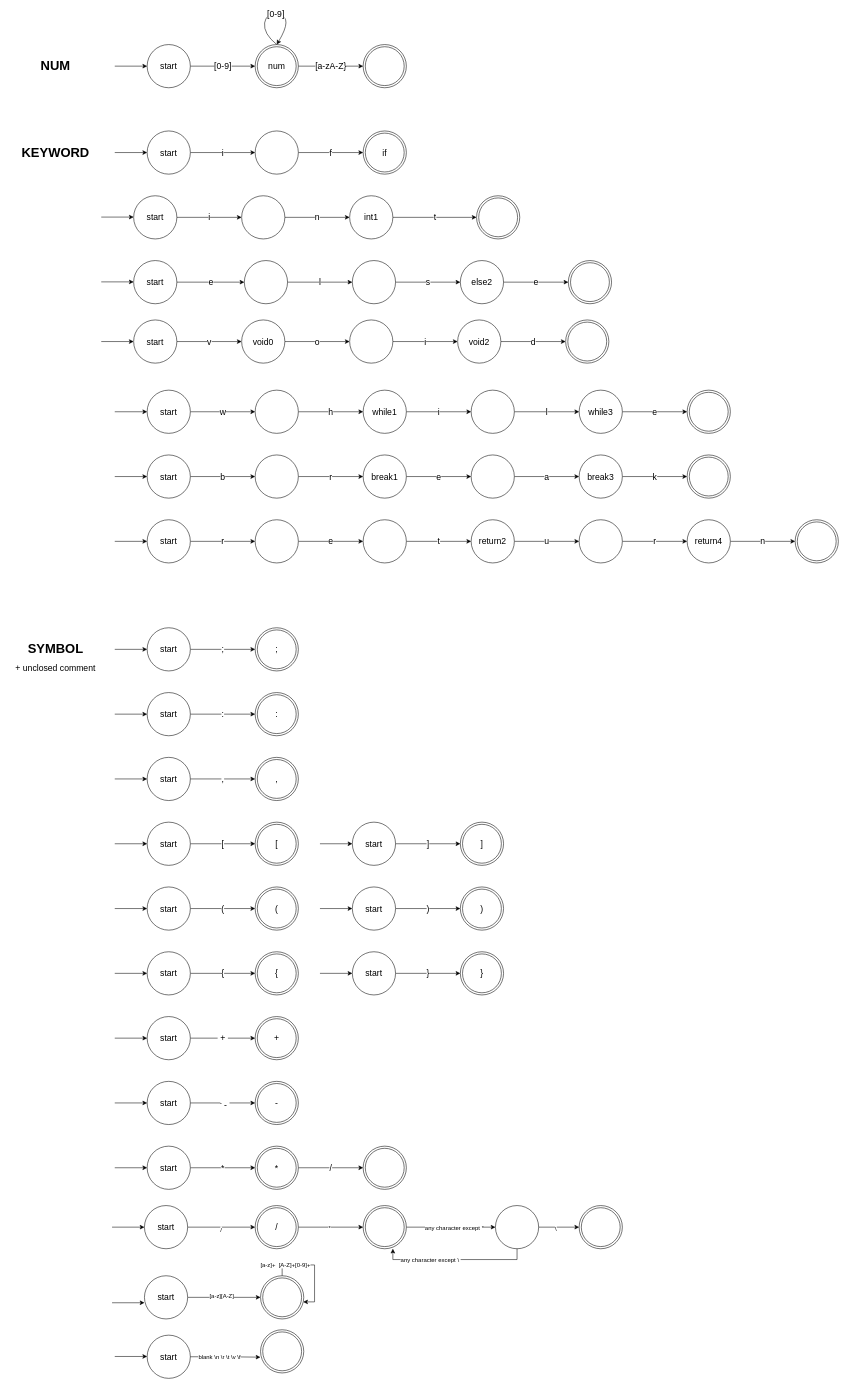
Image size: 848x1388. Some labels were removed from this diagram. Here are the shapes that lost their labels. From the top down, the centre of each, then its label:
(384,66): error {invalid number}
(276,152): if0
(263,217): int0
(498,217): int
(266,282): else0
(374,282): else1
(590,282): else
(371,341): void1
(587,341): void
(276,411): while0
(492,411): while2
(708,411): while
(276,476): break0
(492,476): break2
(708,476): break
(276,541): return0
(384,541): return1
(600,541): return3
(816,541): return
(384,1167): error {unmatched comment}
(384,1227): error {unclosed comment}
(600,1227): comment
(282,1297): ID
(282,1351): whitespace
